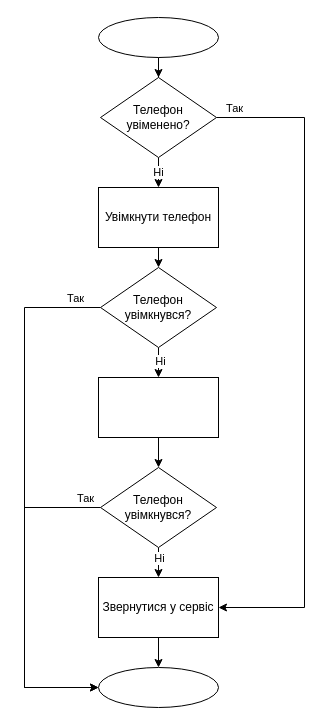
This 330x725 diagram has some shape labels left out. Each missing label, with the box of its shape:
Кінець: (98, 666, 218, 708)
Початок: (98, 16, 218, 58)
Підключити зарядний пристрій: (98, 376, 218, 438)
